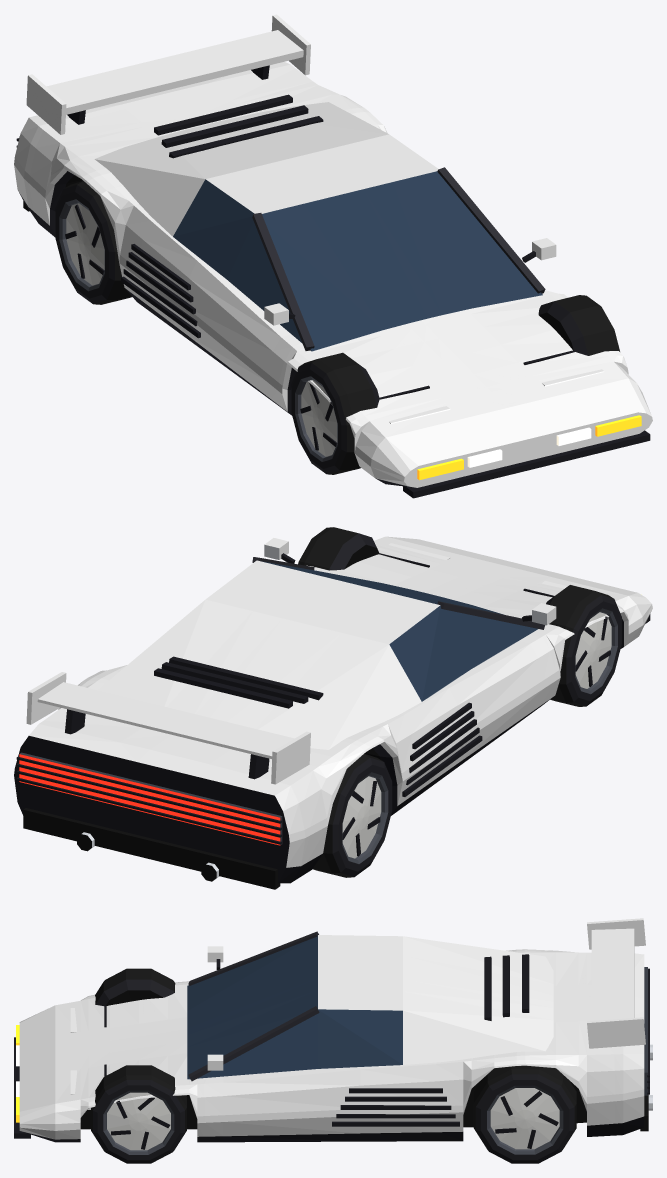
Rendered from wedge.glb.
3 views of the same model, one above another, from view 1: azimuth 30°, elevation 25°; view 2: azimuth 150°, elevation 25°; view 3: azimuth 270°, elevation 25° (orthographic). The views are drawn at different scales.
Visible parts, largest first — view 1: paint, glass, stripe_a, trim, tire (×3), tire_side (×3), part_19 (×2), trim_soft, stripe_b, rim_gunmetal (×2), headlight_amber, headlight_12; view 2: paint, trim, stripe_a, glass, trim_under, tire_side (×3), taillight, tire (×3), part_19 (×2), stripe_b, rim_gunmetal (×2), trim_soft (+2 smaller); view 3: paint, glass, trim (×3), stripe_a, tire_side (×3), part_19 (×2), tire (×3), stripe_b, trim_under (×2), trim_soft, rim_gunmetal (×2), chrome_housing.
Part boxes in pixels (x1,y1,x2,y2): paint: [14, 14, 652, 487]; glass: [173, 171, 542, 351]; stripe_a: [116, 81, 572, 449]; trim: [16, 65, 650, 498]; tire (×3): [64, 180, 619, 474]; tire_side (×3): [55, 185, 588, 474]; part_19 (×2): [66, 203, 337, 456]; trim_soft: [252, 167, 545, 350]; stripe_b: [14, 126, 628, 481]; rim_gunmetal (×2): [59, 199, 337, 461]; headlight_amber: [417, 415, 641, 480]; headlight_12: [467, 427, 591, 467]; paint: [26, 536, 651, 867]; trim: [14, 553, 650, 883]; stripe_a: [107, 555, 572, 776]; glass: [261, 561, 537, 701]; trim_under: [23, 748, 380, 889]; tire_side (×3): [329, 533, 621, 877]; taillight: [19, 754, 280, 845]; tire (×3): [298, 527, 613, 877]; part_19 (×2): [342, 612, 611, 858]; stripe_b: [289, 604, 652, 842]; rim_gunmetal (×2): [342, 608, 617, 863]; trim_soft: [252, 557, 545, 629]; paint: [19, 918, 645, 1139]; glass: [187, 935, 402, 1079]; trim (×3): [14, 954, 649, 1149]; stripe_a: [19, 954, 644, 1084]; tire_side (×3): [93, 979, 574, 1163]; part_19 (×2): [107, 1088, 559, 1150]; tire (×3): [91, 968, 576, 1151]; stripe_b: [19, 1063, 644, 1130]; trim_under (×2): [80, 990, 648, 1131]; trim_soft: [188, 931, 319, 1081]; rim_gunmetal (×2): [103, 1085, 563, 1154]; chrome_housing: [644, 967, 647, 1095].
Size of the model in its own units: 1.92 by 1.1 by 4.5.
